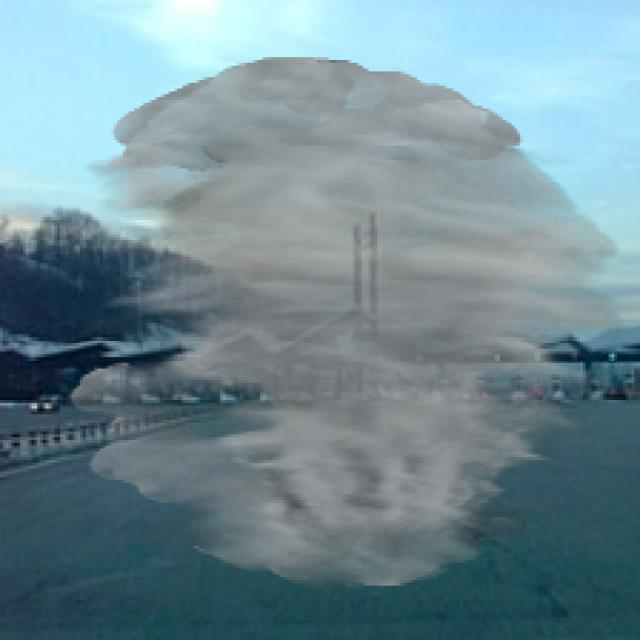smoke: (68, 57, 623, 589)
